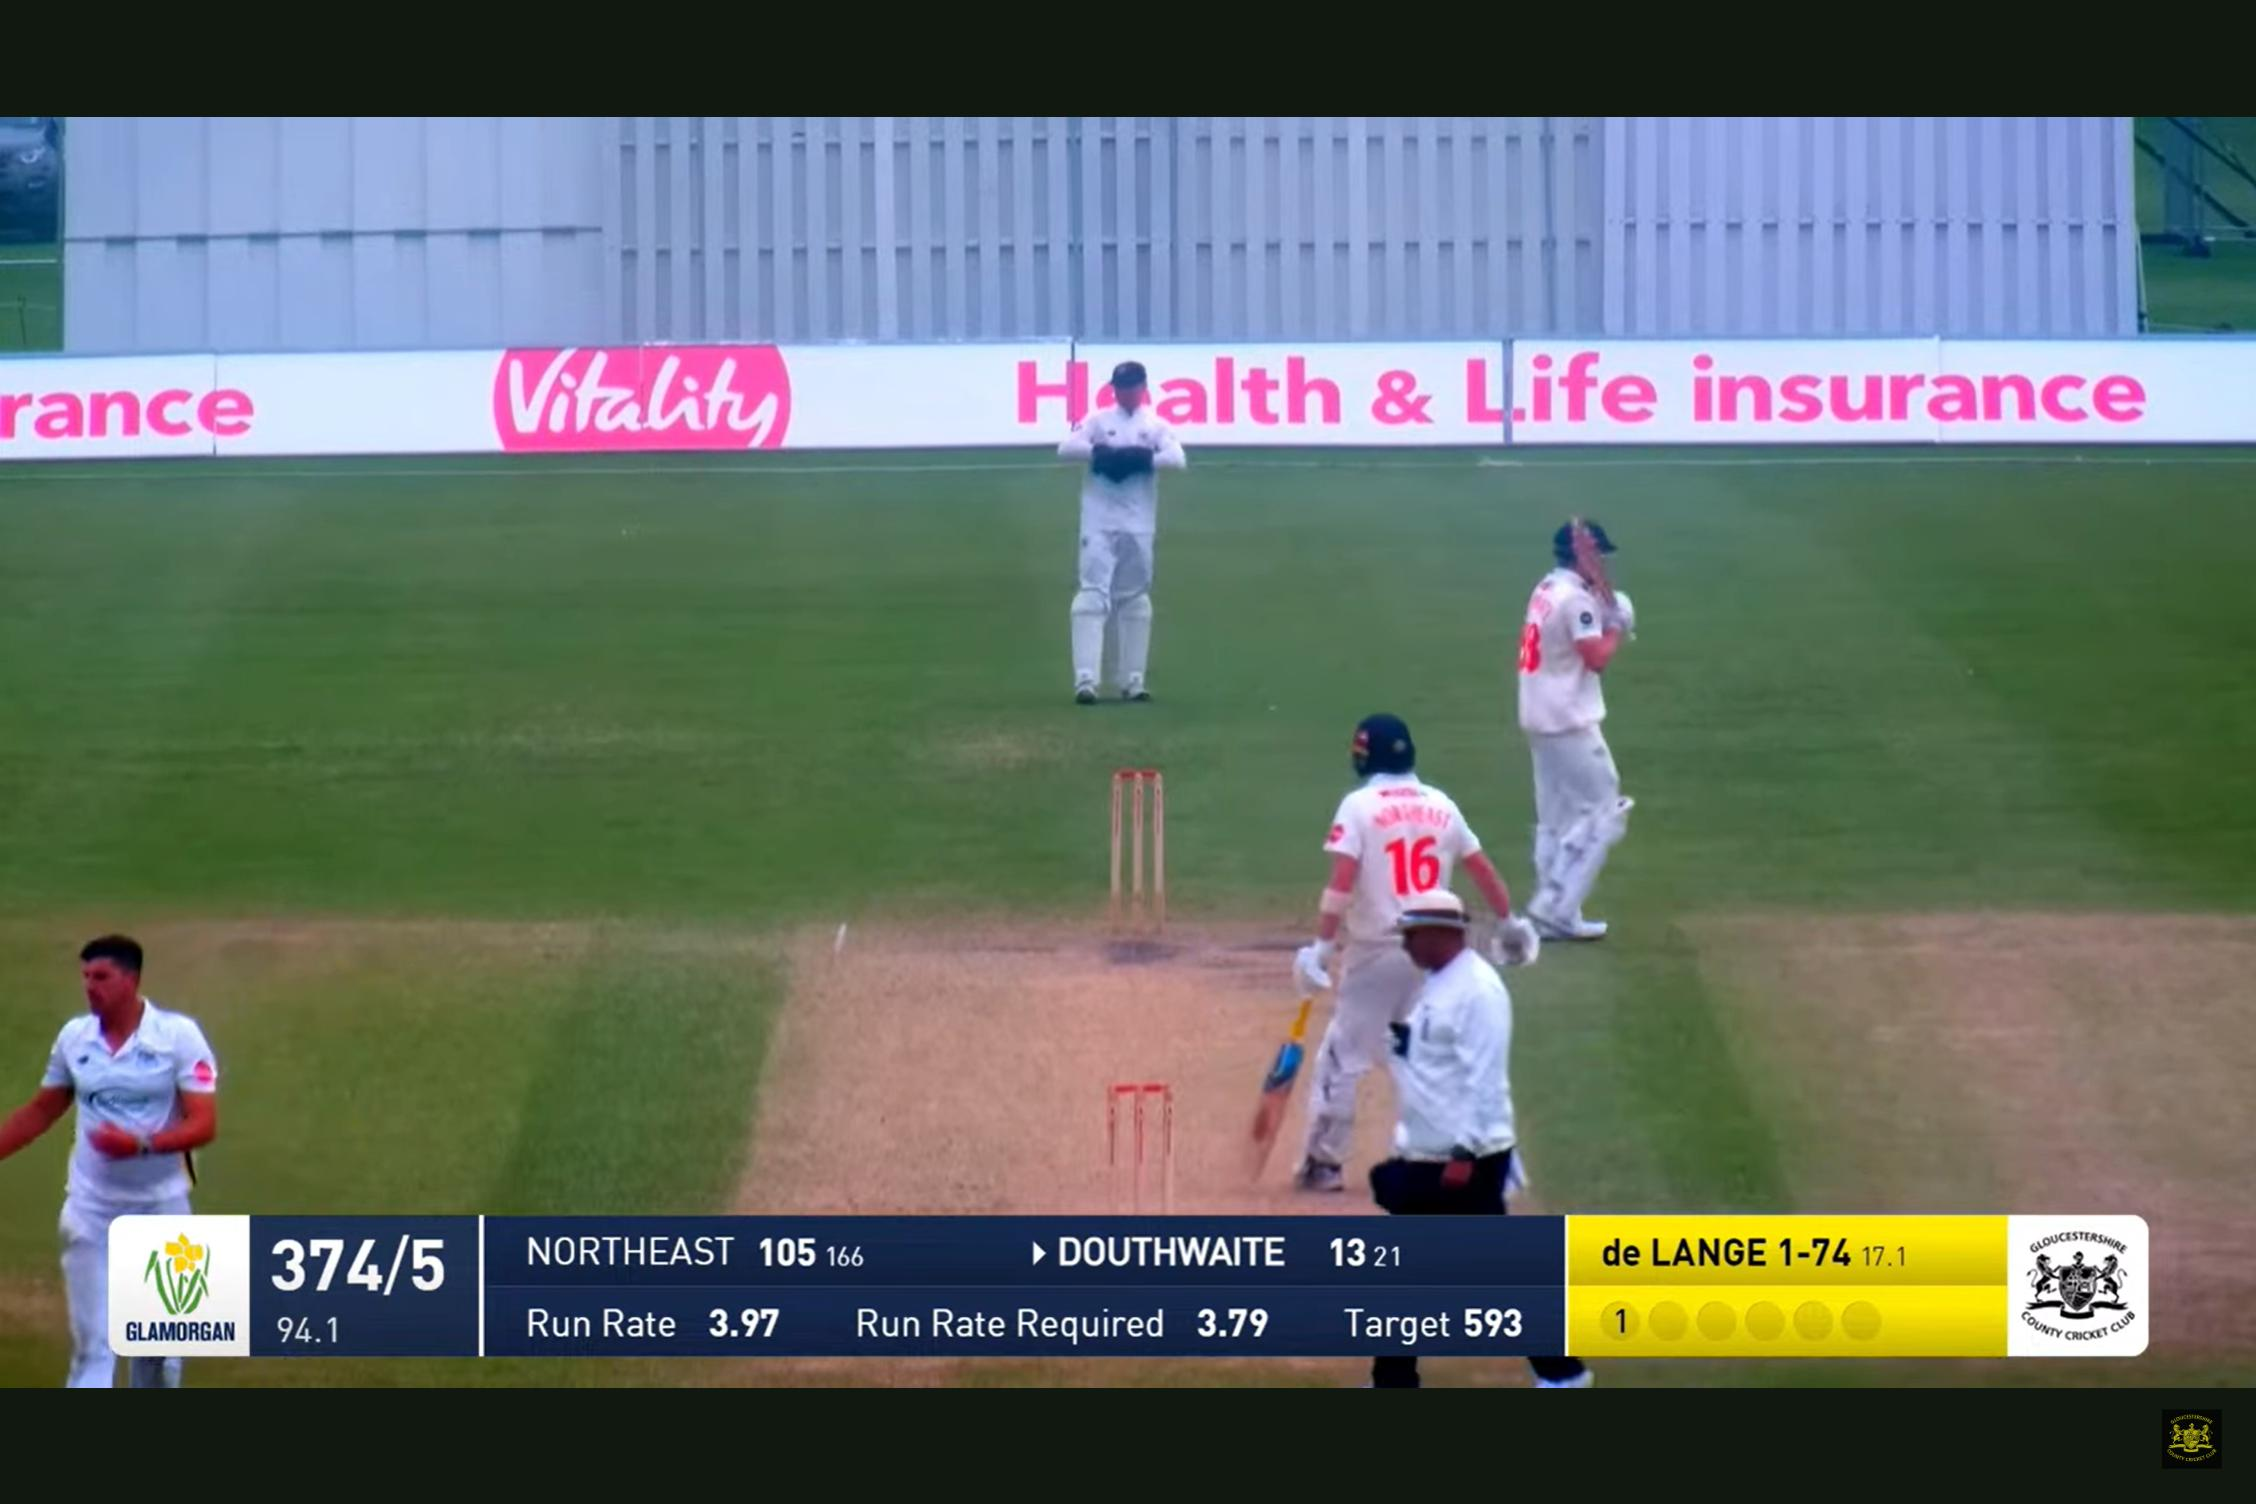batsman: (1440, 525, 1729, 947)
bowler walking back: (22, 923, 311, 1235)
stumps: (1071, 749, 1192, 952)
wicket keeper: (1000, 312, 1217, 715)
